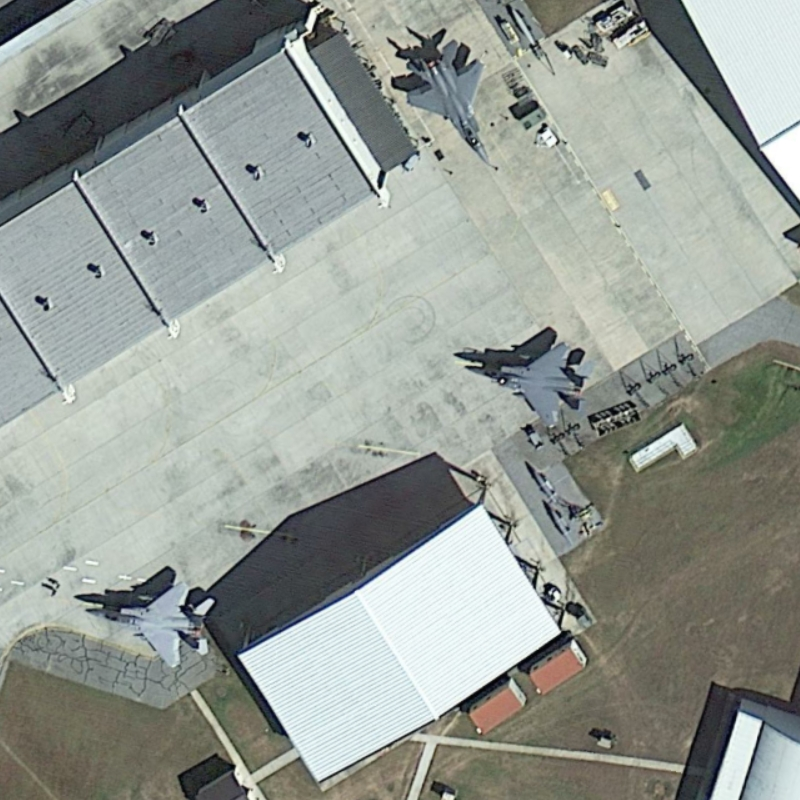A13: (80, 579, 219, 673), (400, 36, 495, 172), (461, 340, 601, 432)
